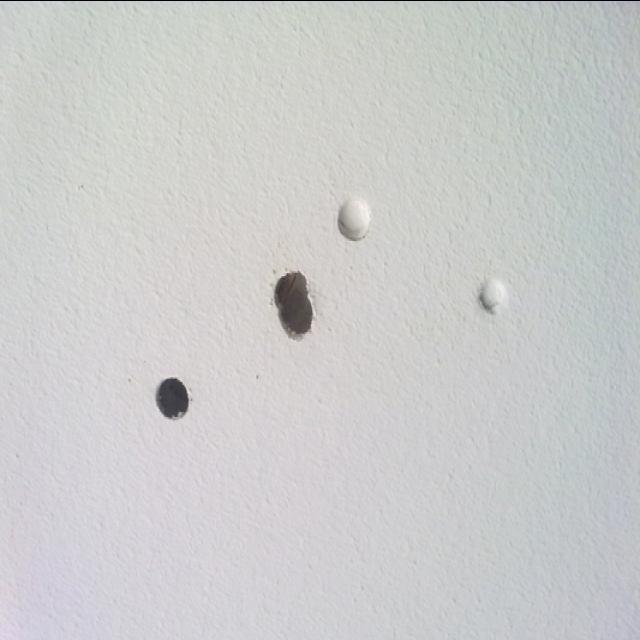Crack: (276, 269, 316, 340), (158, 376, 189, 424)
